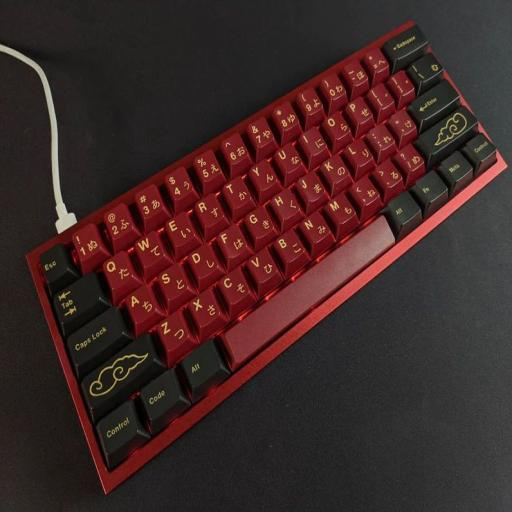KEYBOARD-2: (22, 12, 512, 511)
